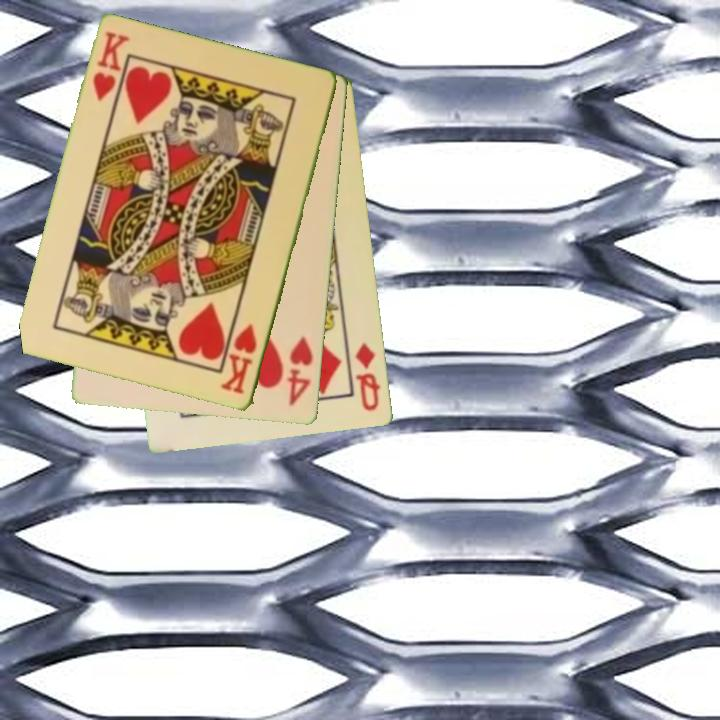4h: (284, 333, 316, 410)
Kh: (89, 28, 133, 104), (218, 321, 260, 398)
Qd: (352, 339, 384, 414)
